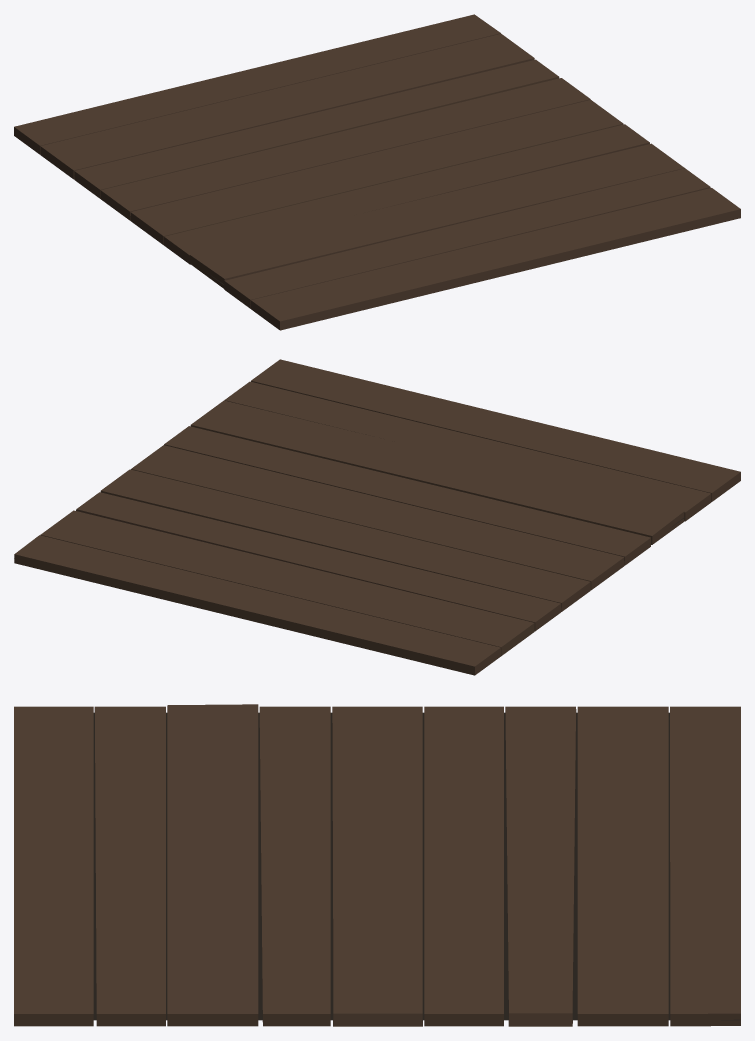
Rendered from Floor_1A_4m.fbx.
3 views of the same model, one above another, from view 1: azimuth 30°, elevation 25°; view 2: azimuth 150°, elevation 25°; view 3: azimuth 270°, elevation 25° (orthographic). The views are drawn at different scales.
Parts seen in each view (by area): view 1: pCube758; view 2: pCube758; view 3: pCube758.
Part boxes in pixels (x1,y1,x2,y2): pCube758: [14, 14, 740, 330]; pCube758: [14, 359, 740, 675]; pCube758: [14, 704, 740, 1026].
Size of the model in its own units: 401 by 8.62 by 400.
